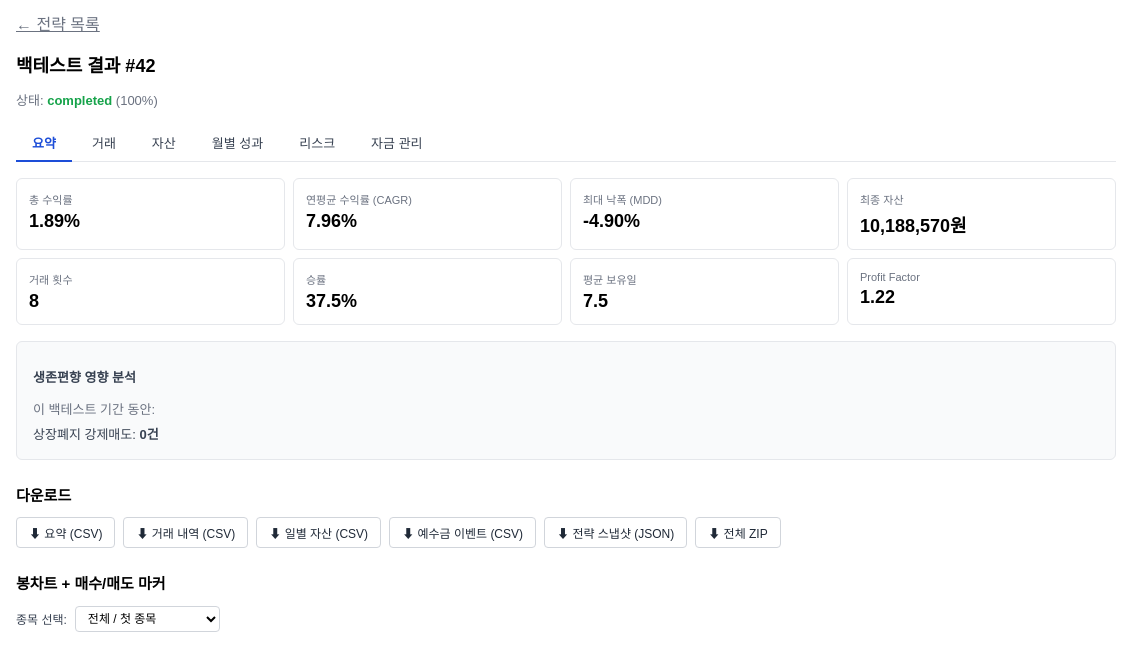
Test: BacktestResultPage › 거래 탭으로 전환 시 거래 내역 표시
Click the tab with test id "tab-trades" at [104, 144], box [76,125,132,162]
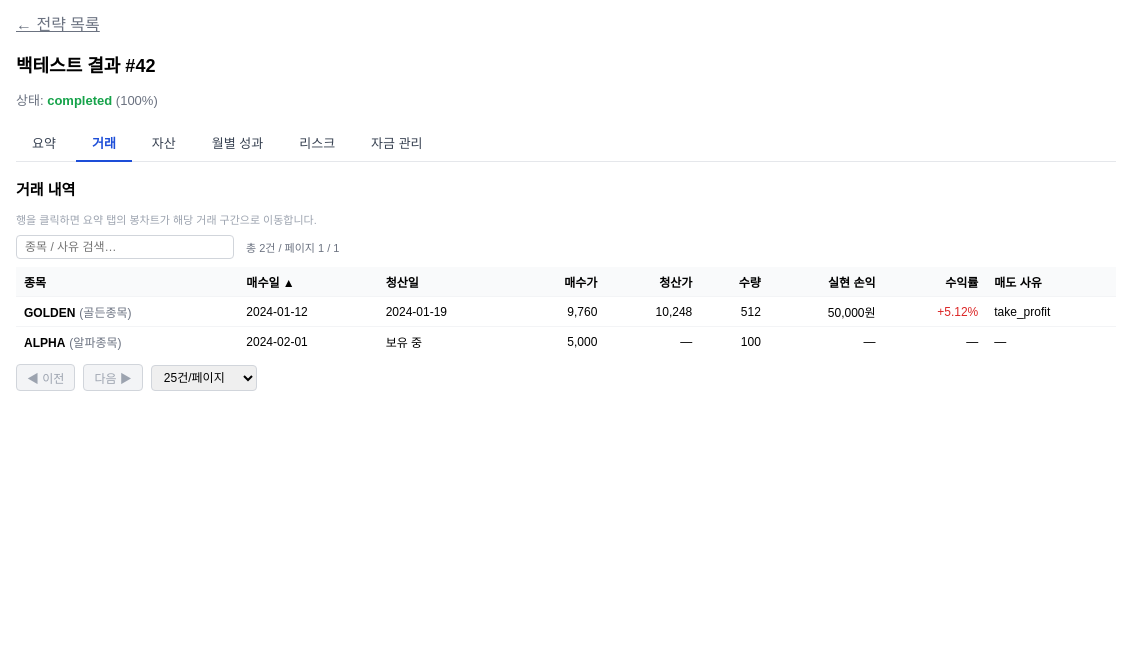
Expected: the text "GOLDEN" is shown, [24,306,75,320]
Expected: the text "take_profit" is shown, [986,297,1116,327]
